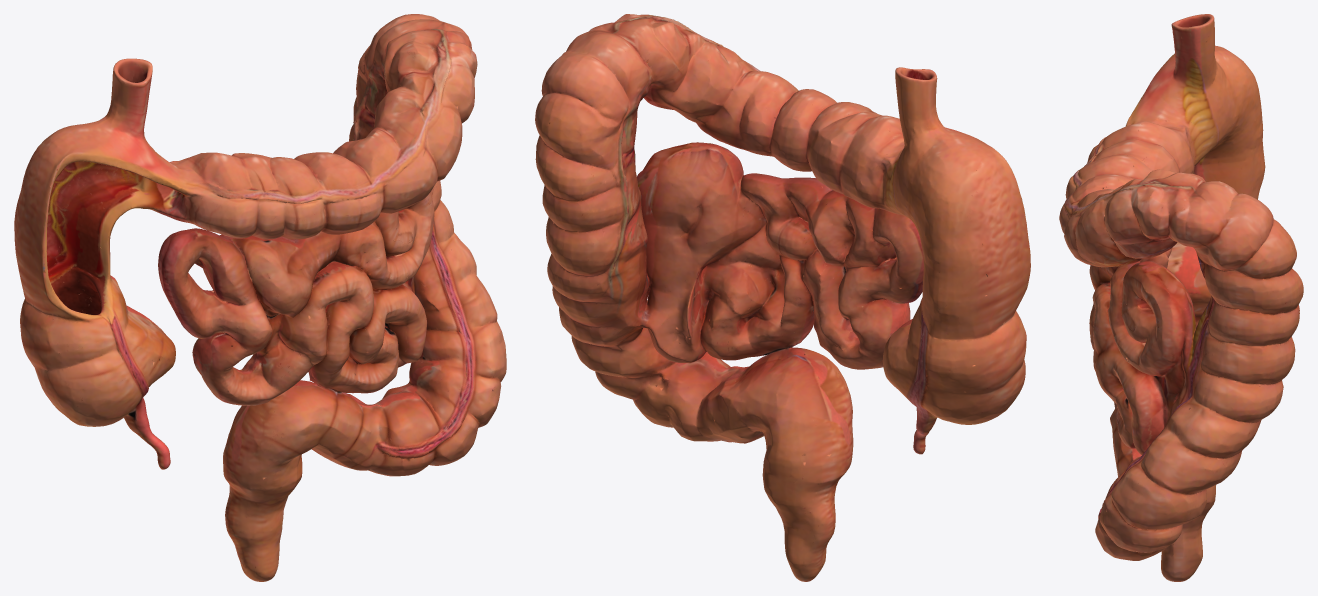
The model's file is bad-quality_s__l_intestine_dacs_ujat_242e75096.glb.
The picture shows the model from 3 angles, left to right: view 1: azimuth 30°, elevation 25°; view 2: azimuth 150°, elevation 25°; view 3: azimuth 270°, elevation 25°; orthographic projection. The views are drawn at different scales.
Visible parts, largest first — view 1: Object_2, Object_4, Object_3, Object_5; view 2: Object_2, Object_3, Object_4, Object_5; view 3: Object_3, Object_4, Object_2, Object_5.
Part boxes in pixels (left/top/right/bottom): Object_2: left=14, top=14, right=492, bottom=581; Object_4: left=18, top=14, right=506, bottom=568; Object_3: left=14, top=20, right=506, bottom=569; Object_5: left=14, top=14, right=506, bottom=573; Object_2: left=536, top=15, right=1030, bottom=579; Object_3: left=535, top=26, right=1021, bottom=564; Object_4: left=535, top=14, right=1029, bottom=581; Object_5: left=536, top=14, right=1030, bottom=580; Object_3: left=1059, top=16, right=1303, bottom=579; Object_4: left=1062, top=14, right=1302, bottom=581; Object_2: left=1064, top=26, right=1296, bottom=581; Object_5: left=1060, top=15, right=1302, bottom=581.
Size of the model in its own units: 1.76 by 2 by 0.8703.
1 material, 1 textured.
